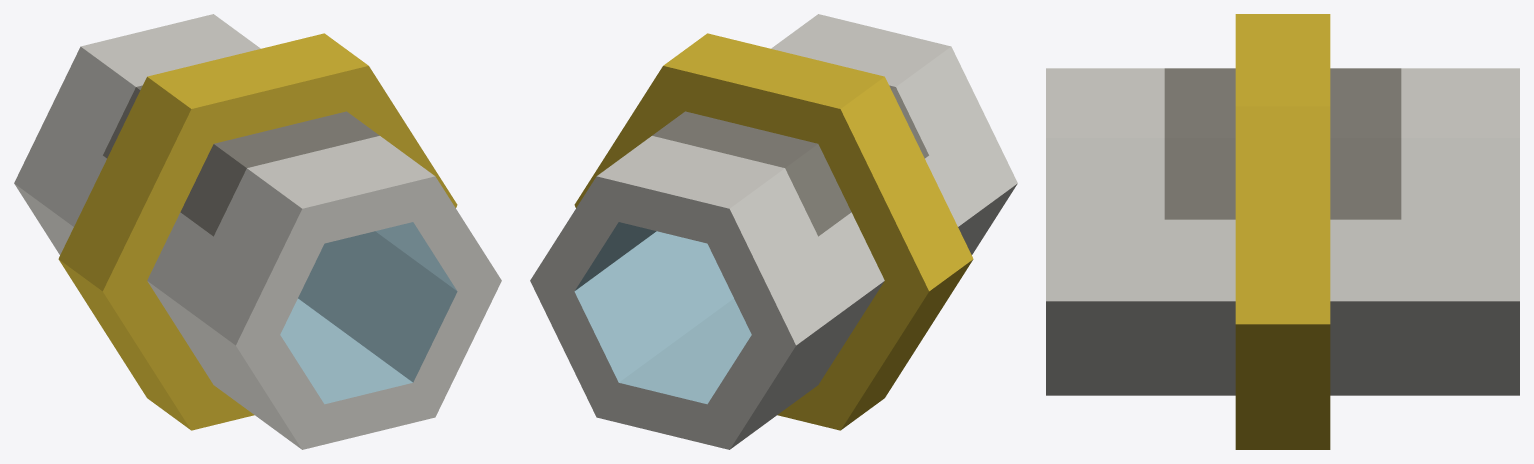
Rendered from cc0-pipe-ring-lod0.glb.
3 views of the same model, side by side, from view 1: azimuth 30°, elevation 25°; view 2: azimuth 150°, elevation 25°; view 3: azimuth 270°, elevation 25° (orthographic). The views are drawn at different scales.
Parts seen in each view (by area): view 1: part_0; view 2: part_0; view 3: part_0.
Part boxes in pixels (bbox=[...]): part_0: bbox=[14, 14, 501, 449]; part_0: bbox=[530, 14, 1017, 449]; part_0: bbox=[1046, 14, 1519, 449].
Size of the model in its own units: 0.9238 by 0.8 by 1.
